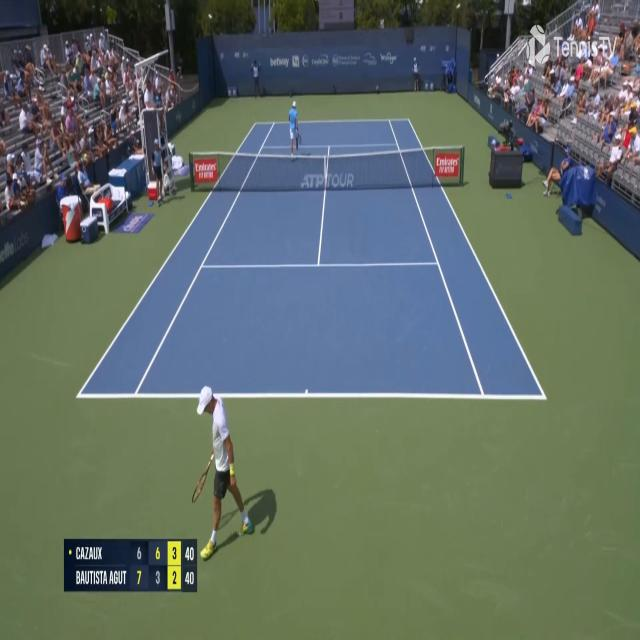tennis-player: (189, 378, 272, 560), (288, 98, 302, 159)
